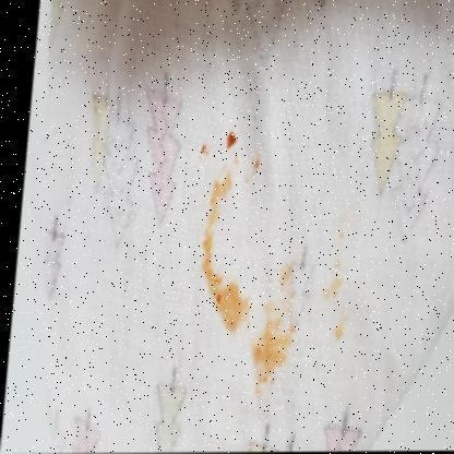kimchi: (179, 177, 236, 277), (249, 298, 301, 386), (199, 282, 244, 335), (323, 231, 351, 301), (222, 120, 247, 148), (276, 260, 296, 290), (194, 135, 213, 157), (250, 156, 265, 174), (334, 324, 344, 340)
